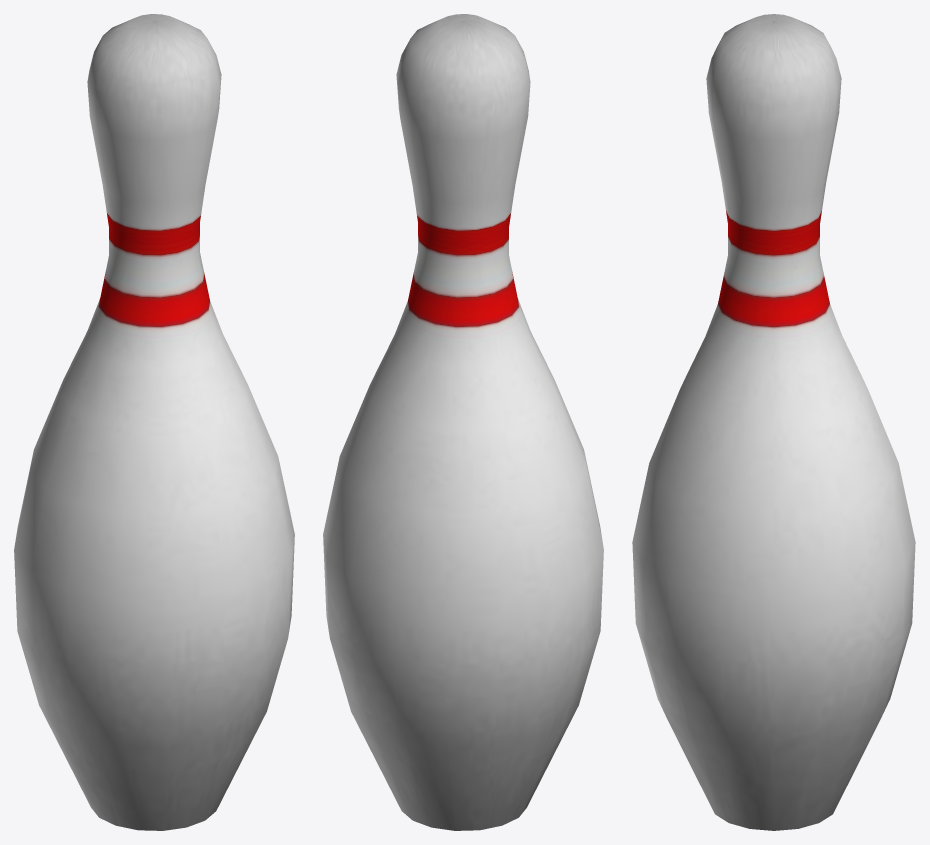
The model's file is bowling_pin (1).fbx.
3 renders of one model, left to right at view 1: azimuth 30°, elevation 25°; view 2: azimuth 150°, elevation 25°; view 3: azimuth 270°, elevation 25°, orthographic.
Visible parts, largest first — view 1: node_ce4855c8_b431_4a0b_b565_81779e0e366d_mesh0; view 2: node_ce4855c8_b431_4a0b_b565_81779e0e366d_mesh0; view 3: node_ce4855c8_b431_4a0b_b565_81779e0e366d_mesh0.
Boxes of the visible parts, <box> form: node_ce4855c8_b431_4a0b_b565_81779e0e366d_mesh0: <box>14,14,294,830</box>; node_ce4855c8_b431_4a0b_b565_81779e0e366d_mesh0: <box>323,14,603,830</box>; node_ce4855c8_b431_4a0b_b565_81779e0e366d_mesh0: <box>632,14,915,830</box>.
Size of the model in its own units: 12.49 by 38.07 by 12.49.
1 material, 1 textured.
